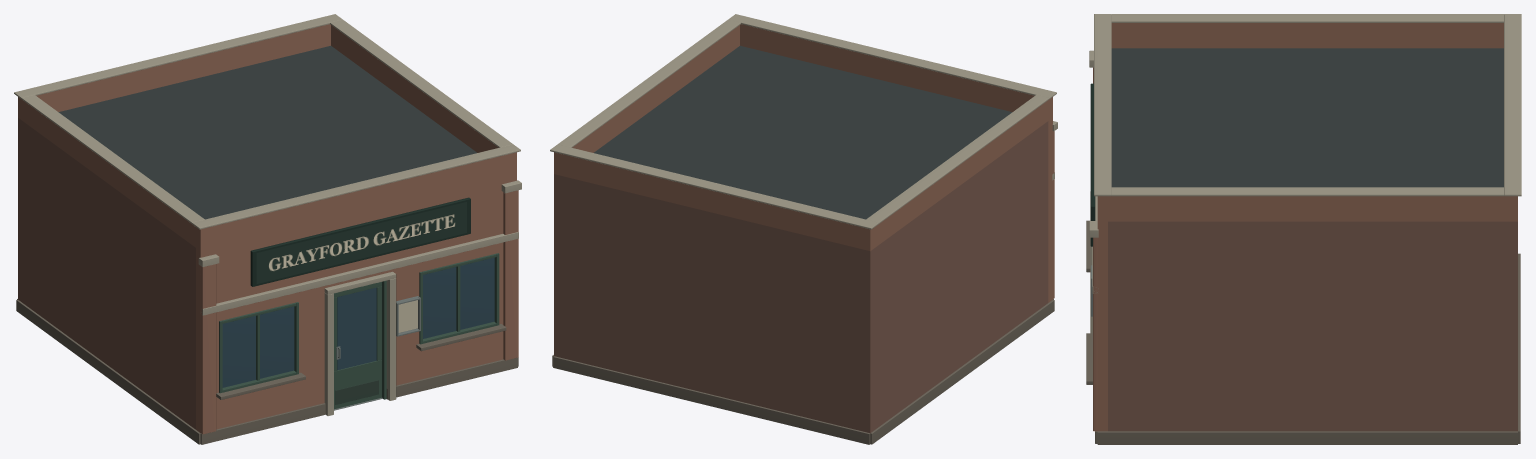
Rendered from Gazette_Exterior.fbx.
3 renders of one model, left to right at view 1: azimuth 30°, elevation 25°; view 2: azimuth 150°, elevation 25°; view 3: azimuth 270°, elevation 25°, orthographic. The views are drawn at different scales.
Visible parts, largest first — view 1: Roof, Building_Shell_Left, Building_Shell_Front, Parapet, Facade_Architectural_Trim, Parapet_Coping, Gazette_Sign_Print, Window_Right, Window_Left, Entrance_Door, Foundation_Trim, Gazette_Sign_Board (+3 smaller); view 2: Building_Shell_Rear, Roof, Building_Shell_Left, Parapet, Parapet_Coping, Foundation_Trim, Building_Shell_Front; view 3: Building_Shell_Right, Roof, Parapet, Parapet_Coping, Foundation_Trim, Building_Shell_Rear, Building_Shell_Front, Facade_Architectural_Trim, Gazette_Sign_Board.
Boxes of the visible parts, box(x1,y1,x2,y2) form: Roof: box(58, 46, 476, 219); Building_Shell_Left: box(22, 121, 195, 429); Building_Shell_Front: box(196, 174, 516, 432); Parapet: box(18, 24, 516, 250); Facade_Architectural_Trim: box(198, 180, 521, 434); Parapet_Coping: box(14, 14, 520, 229); Gazette_Sign_Print: box(256, 202, 466, 283); Window_Right: box(416, 253, 506, 351); Window_Left: box(216, 302, 305, 399); Entrance_Door: box(334, 282, 381, 409); Foundation_Trim: box(16, 299, 518, 444); Gazette_Sign_Board: box(250, 197, 470, 286); Building_Shell_Rear: box(554, 174, 874, 433); Roof: box(594, 45, 1012, 219); Building_Shell_Left: box(875, 121, 1048, 429); Parapet: box(554, 24, 1052, 251); Parapet_Coping: box(550, 14, 1056, 229); Foundation_Trim: box(552, 299, 1054, 444); Building_Shell_Front: box(1048, 118, 1052, 302); Building_Shell_Right: box(1108, 221, 1507, 431); Roof: box(1111, 48, 1503, 187); Parapet: box(1097, 23, 1517, 221); Parapet_Coping: box(1094, 14, 1521, 196); Foundation_Trim: box(1095, 253, 1520, 444); Building_Shell_Rear: box(1507, 221, 1517, 431); Building_Shell_Front: box(1097, 221, 1107, 431); Facade_Architectural_Trim: box(1089, 50, 1098, 431); Gazette_Sign_Board: box(1090, 83, 1095, 246).
Size of the model in its own units: 6.1 by 3.95 by 6.21.
12 materials, 1 textured.
